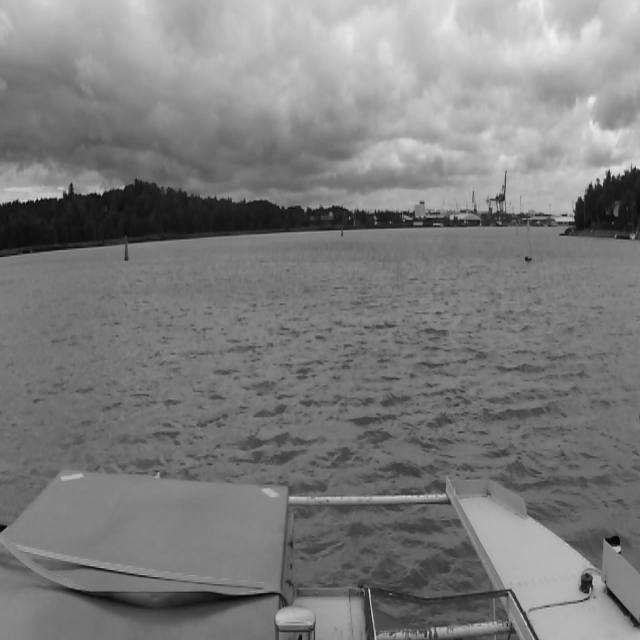buoy: (524, 220, 532, 260), (125, 234, 129, 258), (341, 220, 345, 238)
